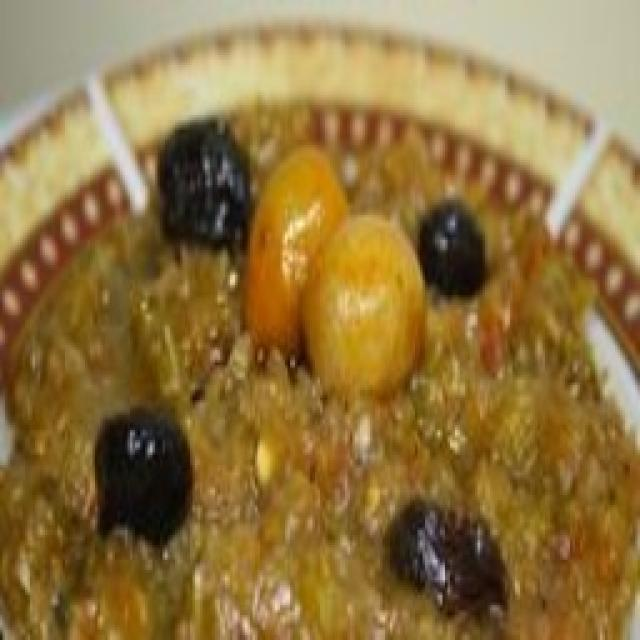Salade mechweya: (0, 22, 640, 640)
